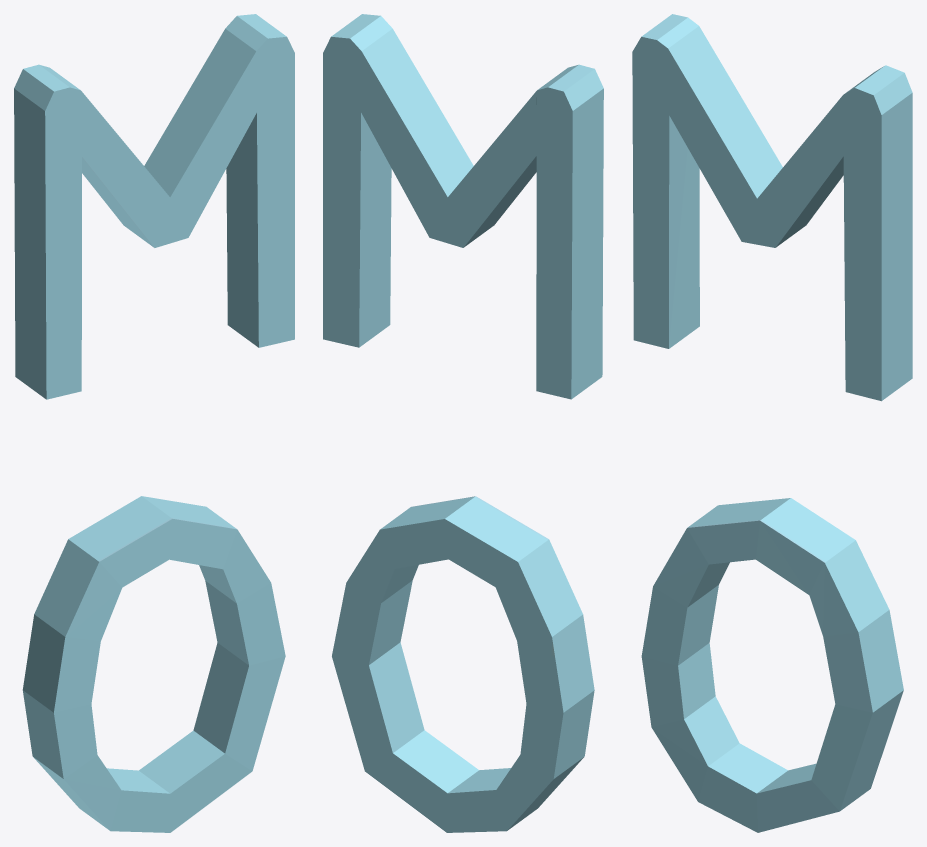
The model's file is Props-TextBanner-Motel_MO.fbx.
3 renders of one model, left to right at view 1: azimuth 30°, elevation 25°; view 2: azimuth 150°, elevation 25°; view 3: azimuth 330°, elevation 25°, orthographic.
Visible parts, largest first — view 1: Props-TextBanner-Motel_MO; view 2: Props-TextBanner-Motel_MO; view 3: Props-TextBanner-Motel_MO.
Part boxes in pixels (x1,y1,x2,y2): Props-TextBanner-Motel_MO: [14, 14, 294, 832]; Props-TextBanner-Motel_MO: [323, 14, 603, 832]; Props-TextBanner-Motel_MO: [632, 14, 912, 832].
Bounding box in the file's own units: 22.69 × 66.89 × 4.98.
